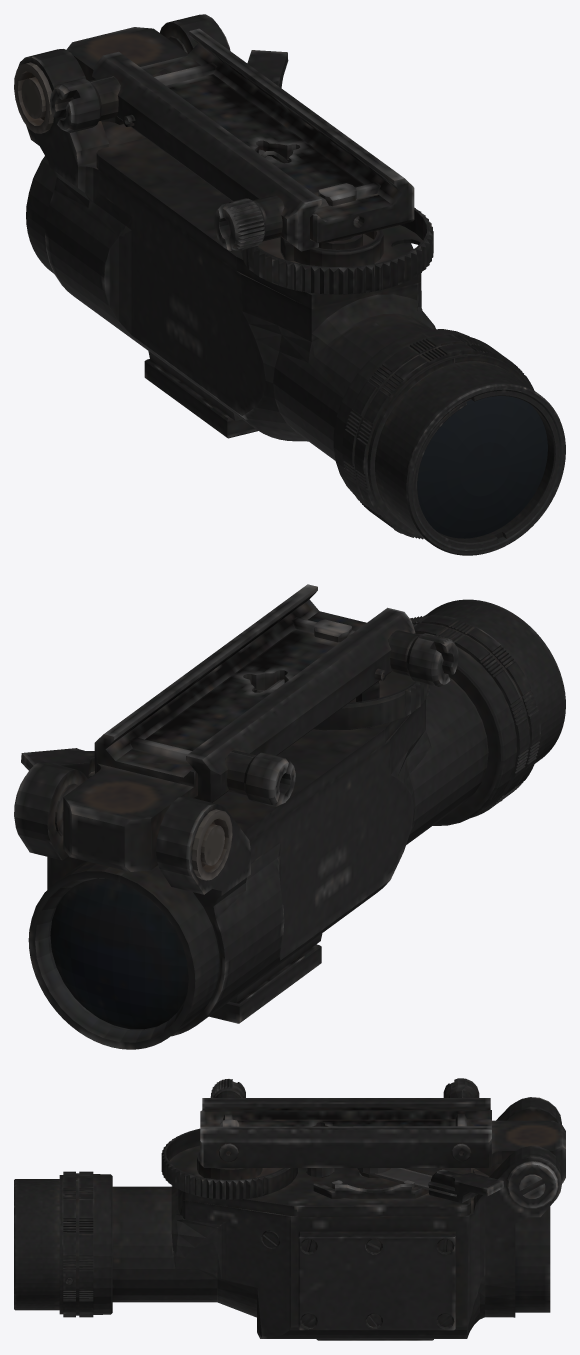
3 renders of one model, top to bottom at view 1: azimuth 30°, elevation 25°; view 2: azimuth 150°, elevation 25°; view 3: azimuth 270°, elevation 25°, orthographic. The views are drawn at different scales.
Parts seen in each view (by area): view 1: TW_5c0517910db83400232ffee5_mode1_PZ_Import; view 2: TW_5c0517910db83400232ffee5_mode1_PZ_Import; view 3: TW_5c0517910db83400232ffee5_mode1_PZ_Import.
Boxes of the visible parts, x1,y1,x2,y2 form: TW_5c0517910db83400232ffee5_mode1_PZ_Import: (14, 14, 565, 555); TW_5c0517910db83400232ffee5_mode1_PZ_Import: (14, 584, 565, 1049); TW_5c0517910db83400232ffee5_mode1_PZ_Import: (14, 1078, 565, 1340).
Size of the model in its own units: 0.0352 by 0.0962 by 0.0408.
1 material, 1 textured.
